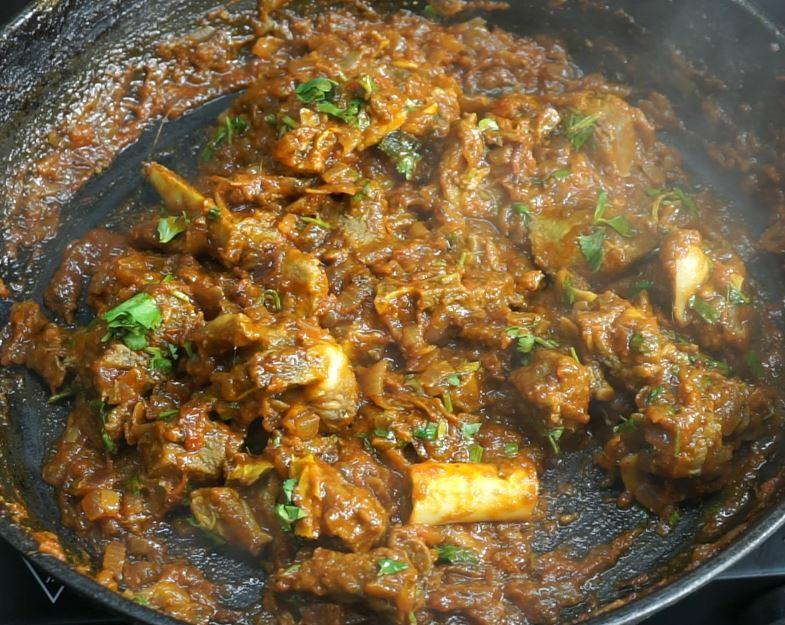MuttonCurry: (94, 36, 758, 612)
